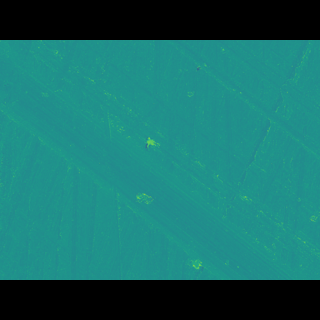Loch: (0, 71, 303, 250), (175, 68, 319, 159)
